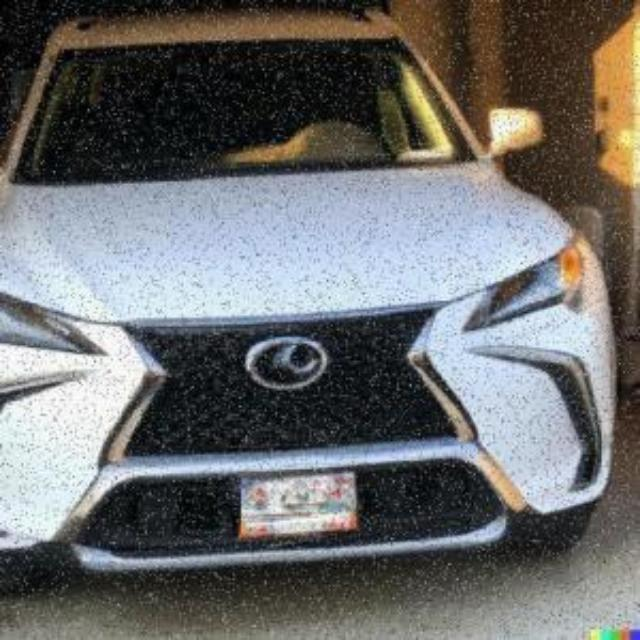License Plate: (239, 472, 357, 538)
